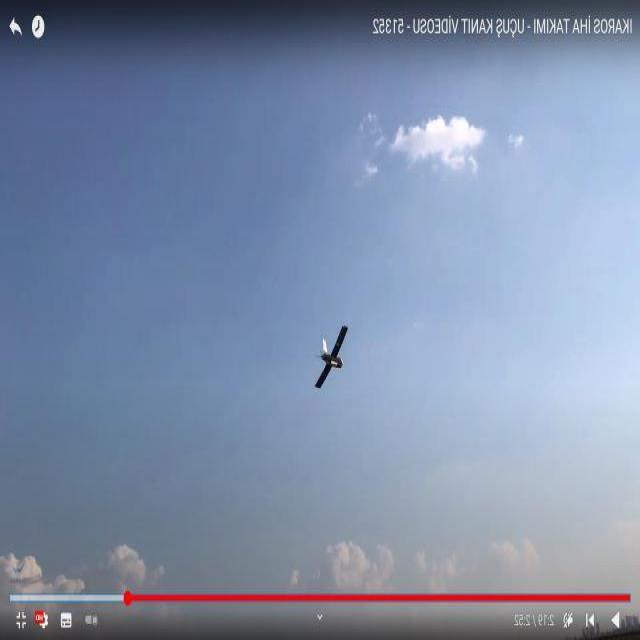UAV: (267, 316, 370, 402)
